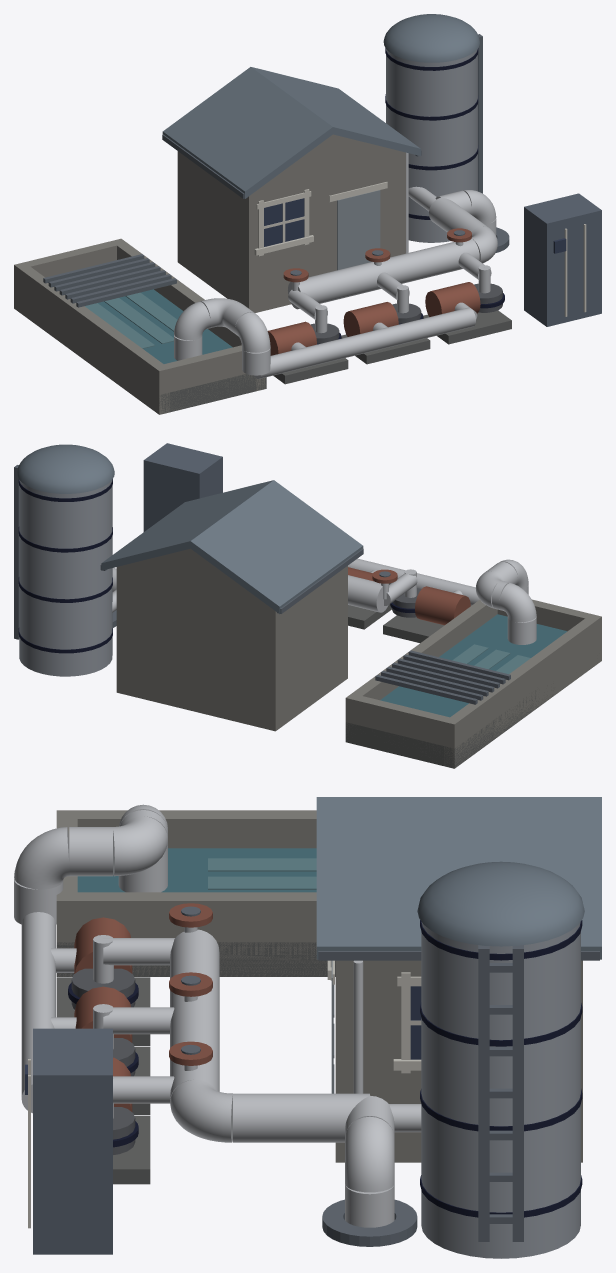
Rendered from water_pump_lvl2.glb.
The picture shows the model from 3 angles, top to bottom: view 1: azimuth 30°, elevation 25°; view 2: azimuth 150°, elevation 25°; view 3: azimuth 270°, elevation 25°; orthographic projection. The views are drawn at different scales.
Visible parts, largest first — view 1: water_pump; view 2: water_pump; view 3: water_pump.
Boxes of the visible parts, x1,y1,x2,y2 form: water_pump: (14, 14, 601, 414); water_pump: (14, 443, 601, 768); water_pump: (14, 797, 601, 1258).
Bounding box in the file's own units: 0.7946 × 0.3427 × 0.5242.
